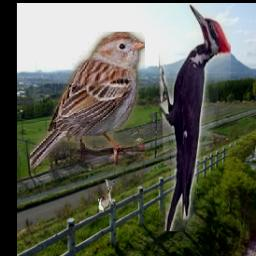Cuckoo: (99, 181, 115, 213)
Sparrow: (31, 32, 146, 171)
Woodpecker: (160, 3, 232, 231)
